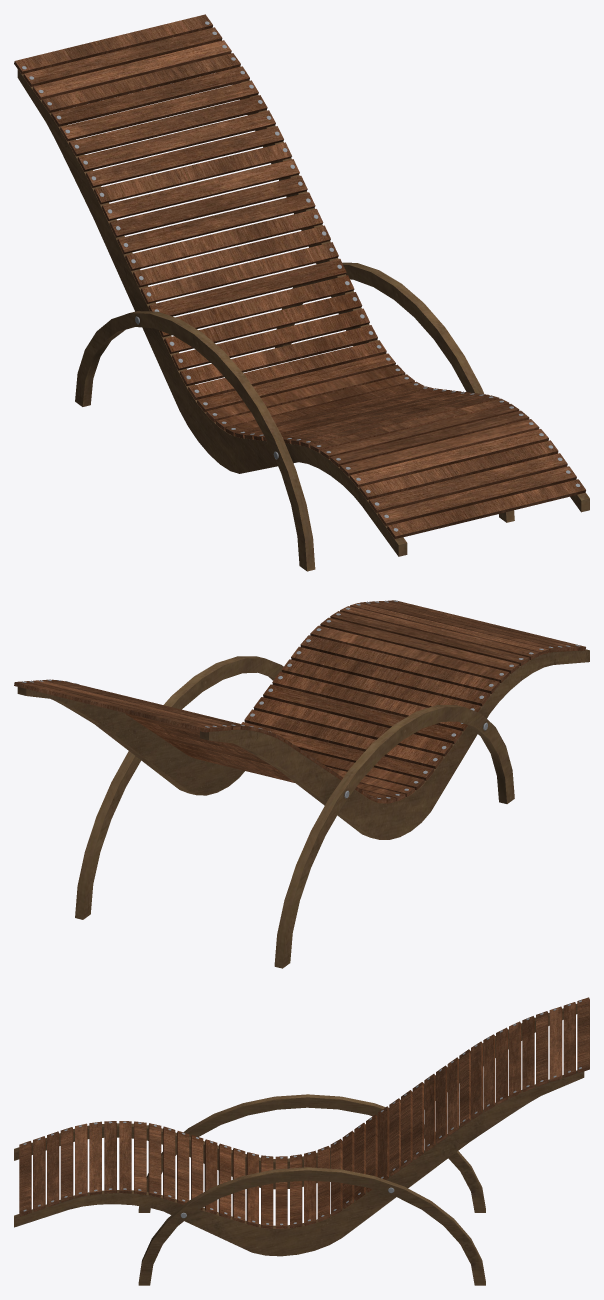
The model's file is sun_lounger_wood.gltf.
3 renders of one model, top to bottom at view 1: azimuth 30°, elevation 25°; view 2: azimuth 150°, elevation 25°; view 3: azimuth 270°, elevation 25°, orthographic. The views are drawn at different scales.
Visible parts, largest first — view 1: Sidushka_low, Pen_low, Base_low, Screws_low; view 2: Sidushka_low, Base_low, Pen_low, Screws_low; view 3: Sidushka_low, Base_low, Pen_low, Screws_low.
Part boxes in pixels (x1,y1,x2,y2): Sidushka_low: (14,14,585,538); Pen_low: (75,262,514,571); Base_low: (17,66,589,556); Screws_low: (22,21,580,531); Sidushka_low: (14,600,585,803); Base_low: (17,649,589,839); Pen_low: (75,656,514,968); Screws_low: (22,600,579,799); Sidushka_low: (19,997,589,1228); Base_low: (14,1004,584,1256); Pen_low: (138,1094,485,1285); Screws_low: (23,1000,581,1225).
Bounding box in the file's own units: 4.57 × 5.97 × 14.44.
Materials: 3 (3 with a texture image).
